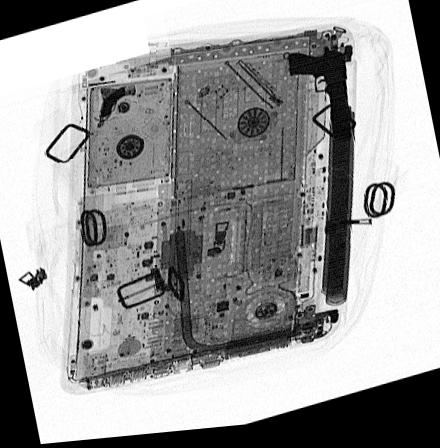Gun: (286, 49, 353, 146)
